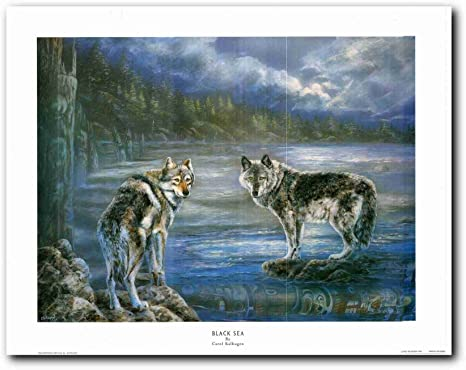Lobo: (89, 151, 215, 302), (234, 140, 382, 264)
